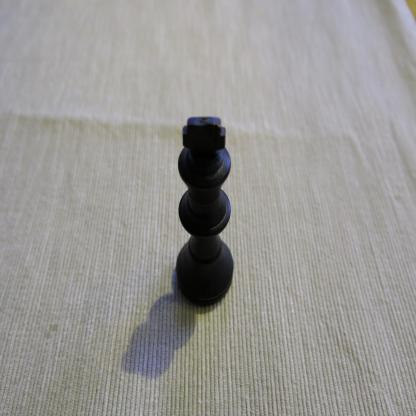black-king: (175, 114, 235, 308)
